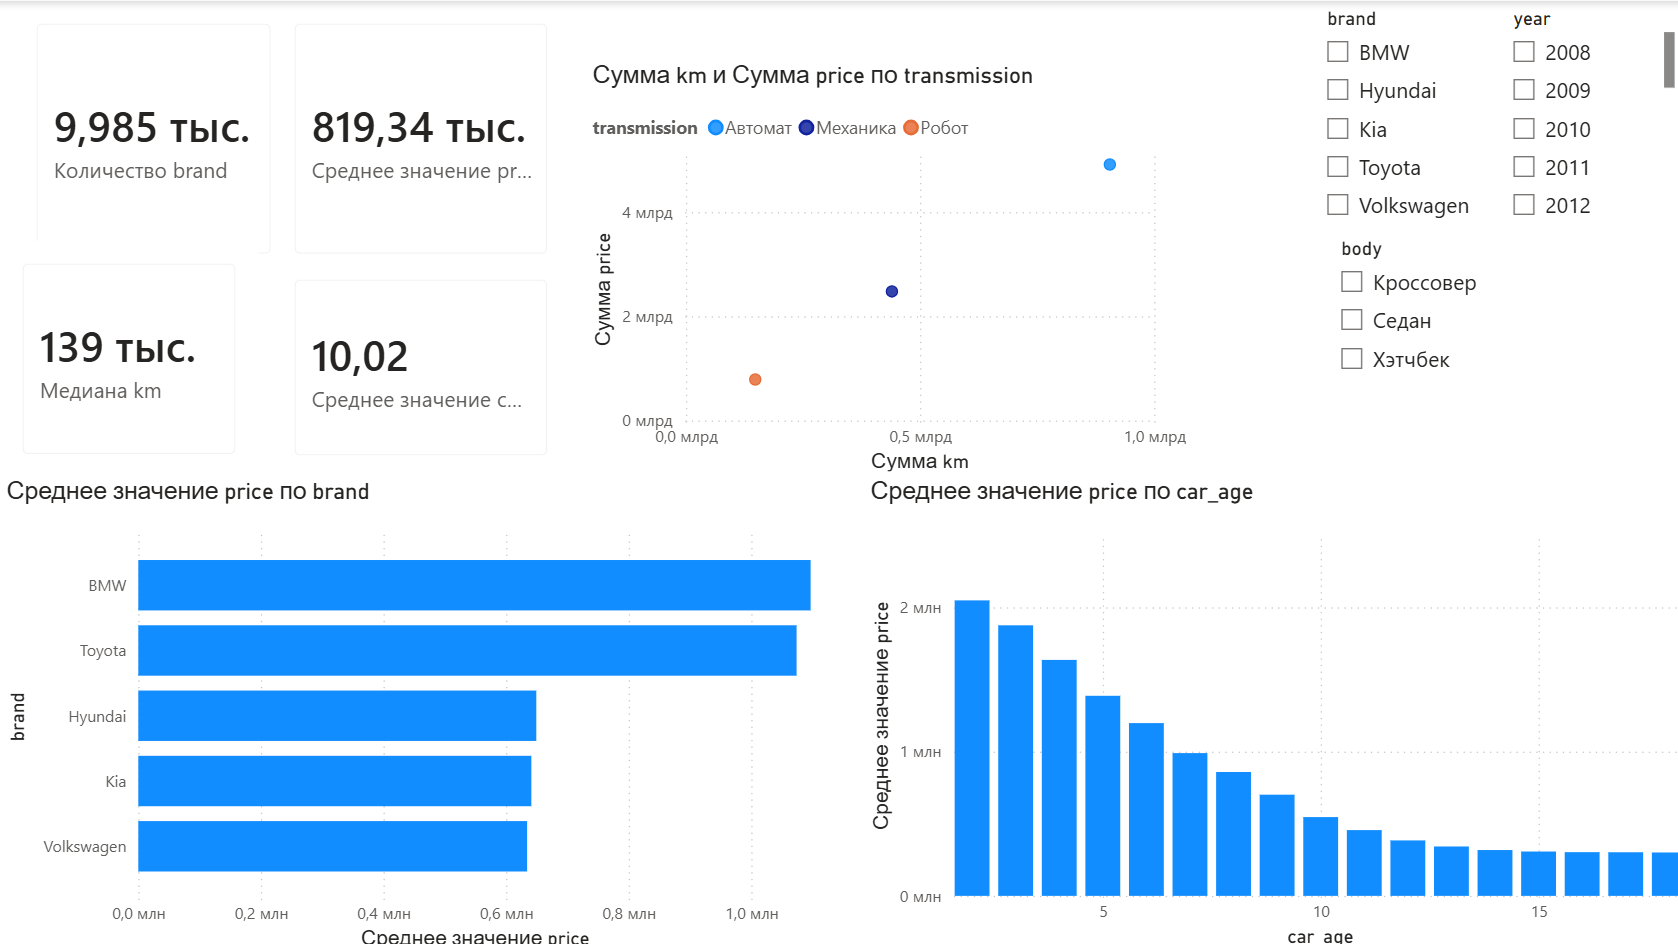

The page's visual inventory and layout, read from the dashboard file:
{"tool":"powerbi","page":{"name":"Страница 1","canvas":[1280,720],"ordinal":0},"visuals":[{"type":"cardVisual","fields":{"Data":["CountNonNull(used_cars_clean.brand)"]},"box":[10,0,211.4,208.6],"z":0},{"type":"cardVisual","fields":{"Data":["Median(used_cars_clean.km)"]},"box":[0,181.4,195.7,178.6],"z":1000},{"type":"cardVisual","fields":{"Data":["Avg(used_cars_clean.price)"]},"box":[205.7,0,225.7,208.6],"z":2000},{"type":"cardVisual","fields":{"Data":["Avg(used_cars_clean.car_age)"]},"box":[205.7,192.9,225.7,167.1],"z":3000},{"type":"clusteredColumnChart","fields":{"Category":["used_cars_clean.car_age"],"Y":["Avg(used_cars_clean.price)"]},"box":[653.3,360,626.7,360],"z":4000},{"type":"barChart","fields":{"Category":["used_cars_clean.brand"],"Y":["Avg(used_cars_clean.price)"]},"box":[0,360,640,361.7],"z":5000},{"type":"scatterChart","fields":{"X":["Sum(used_cars_clean.km)"],"Y":["Sum(used_cars_clean.price)"],"Series":["used_cars_clean.transmission"]},"box":[443.3,45,458.3,315],"z":6000},{"type":"slicer","fields":{"Values":["used_cars_clean.brand"]},"box":[990,0,140,186.7],"z":6001},{"type":"slicer","fields":{"Values":["used_cars_clean.year"]},"box":[1130,0,140,173.3],"z":6002},{"type":"slicer","fields":{"Values":["used_cars_clean.body"]},"box":[1000,173.3,280,140],"z":6003}]}

Visuals, with their boxes in screenshot pixels (x1, y1, x2, y2), scaled from the page's 1280x720 canvas onto the 1678x944 screenshot:
cardVisual - CountNonNull(used_cars_clean.brand): BBox(13, 0, 290, 273)
cardVisual - Median(used_cars_clean.km): BBox(0, 238, 257, 472)
cardVisual - Avg(used_cars_clean.price): BBox(270, 0, 566, 273)
cardVisual - Avg(used_cars_clean.car_age): BBox(270, 253, 566, 472)
clusteredColumnChart - used_cars_clean.car_age x Avg(used_cars_clean.price): BBox(856, 472, 1677, 943)
barChart - used_cars_clean.brand x Avg(used_cars_clean.price): BBox(0, 472, 839, 943)
scatterChart - Sum(used_cars_clean.km) x Sum(used_cars_clean.price): BBox(581, 59, 1182, 472)
slicer - used_cars_clean.brand: BBox(1298, 0, 1481, 245)
slicer - used_cars_clean.year: BBox(1481, 0, 1665, 227)
slicer - used_cars_clean.body: BBox(1311, 227, 1677, 411)
